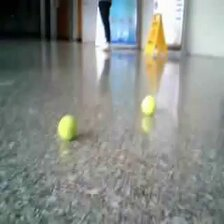tennis: (58, 113, 78, 141), (140, 95, 156, 115)
